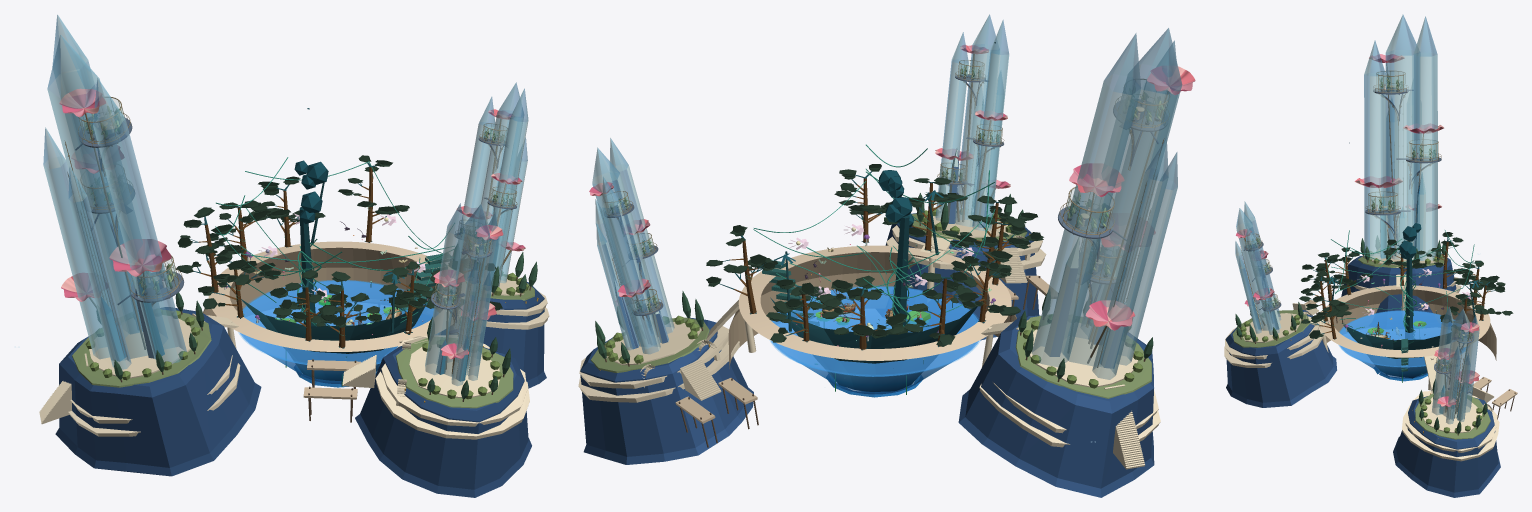
Rendered from city-r10.glb.
3 views of the same model, side by side, from view 1: azimuth 30°, elevation 25°; view 2: azimuth 150°, elevation 25°; view 3: azimuth 270°, elevation 25° (orthographic). The views are drawn at different scales.
Parts seen in each view (by area): view 1: v9-crystal-prism (×14), v7-bank-rock-0, v7-bank-rock-2, swamp-towering-tree (×8), v7-swamp-outer-embankment, v7-continuous-swamp-promenade, swamp-underground-waterline, swamp-sinkhole-wall, v7-bank-rock-1, v9-coral-flower-canopy (×3), swamp-water-volume, v7-tower-plinth-0 (+13 smaller); view 2: v9-crystal-prism (×13), v7-bank-rock-0, swamp-towering-tree (×9), v7-bank-rock-1, v7-continuous-swamp-promenade, swamp-underground-waterline, swamp-sinkhole-wall, v7-swamp-outer-embankment, swamp-water-volume, v9-coral-flower-canopy (×3), v7-tower-plinth-0, moebius-swamp-zone (+12 smaller); view 3: v9-crystal-prism (×14), v7-bank-rock-2, swamp-towering-tree (×9), v7-bank-rock-1, swamp-underground-waterline, v7-bank-rock-0, v7-swamp-outer-embankment, v7-continuous-swamp-promenade, swamp-water-volume, swamp-sinkhole-wall, moebius-swamp-zone, v10-cylindrical-habitat (×3) (+13 smaller).
Part boxes in pixels (x1,y1,x2,y2): v9-crystal-prism (×14): (43, 14, 528, 385); v7-bank-rock-0: (55, 307, 261, 476); v7-bank-rock-2: (355, 344, 531, 497); swamp-towering-tree (×8): (176, 155, 436, 348); v7-swamp-outer-embankment: (203, 247, 452, 327); v7-continuous-swamp-promenade: (208, 241, 466, 351); swamp-underground-waterline: (238, 280, 438, 364); swamp-sinkhole-wall: (241, 299, 426, 380); v7-bank-rock-1: (439, 282, 546, 388); v9-coral-flower-canopy (×3): (59, 89, 171, 301); swamp-water-volume: (244, 282, 432, 384); v7-tower-plinth-0: (89, 315, 194, 378); v9-crystal-prism (×13): (592, 14, 1182, 379); v7-bank-rock-0: (958, 315, 1154, 497); swamp-towering-tree (×9): (706, 164, 1043, 350); v7-bank-rock-1: (580, 317, 753, 464); v7-continuous-swamp-promenade: (738, 245, 1011, 360); swamp-underground-waterline: (770, 286, 980, 376); swamp-sinkhole-wall: (770, 297, 981, 391); v7-swamp-outer-embankment: (728, 252, 1016, 368); swamp-water-volume: (775, 287, 976, 394); v9-coral-flower-canopy (×3): (1069, 66, 1195, 330); v7-tower-plinth-0: (1029, 323, 1138, 387); moebius-swamp-zone: (753, 42, 995, 394); v9-crystal-prism (×14): (1235, 14, 1479, 424); v7-bank-rock-2: (1225, 310, 1336, 407); swamp-towering-tree (×9): (1299, 232, 1513, 339); v7-bank-rock-1: (1393, 396, 1500, 497); swamp-underground-waterline: (1338, 310, 1465, 367); v7-bank-rock-0: (1341, 255, 1456, 313); v7-swamp-outer-embankment: (1325, 289, 1496, 360); v7-continuous-swamp-promenade: (1320, 285, 1490, 357); swamp-water-volume: (1341, 312, 1441, 378); swamp-sinkhole-wall: (1343, 325, 1459, 378); moebius-swamp-zone: (1326, 142, 1481, 382); v10-cylindrical-habitat (×3): (1369, 75, 1437, 212).
Bounding box in the file's own units: 98.31 × 87.37 × 72.14.
